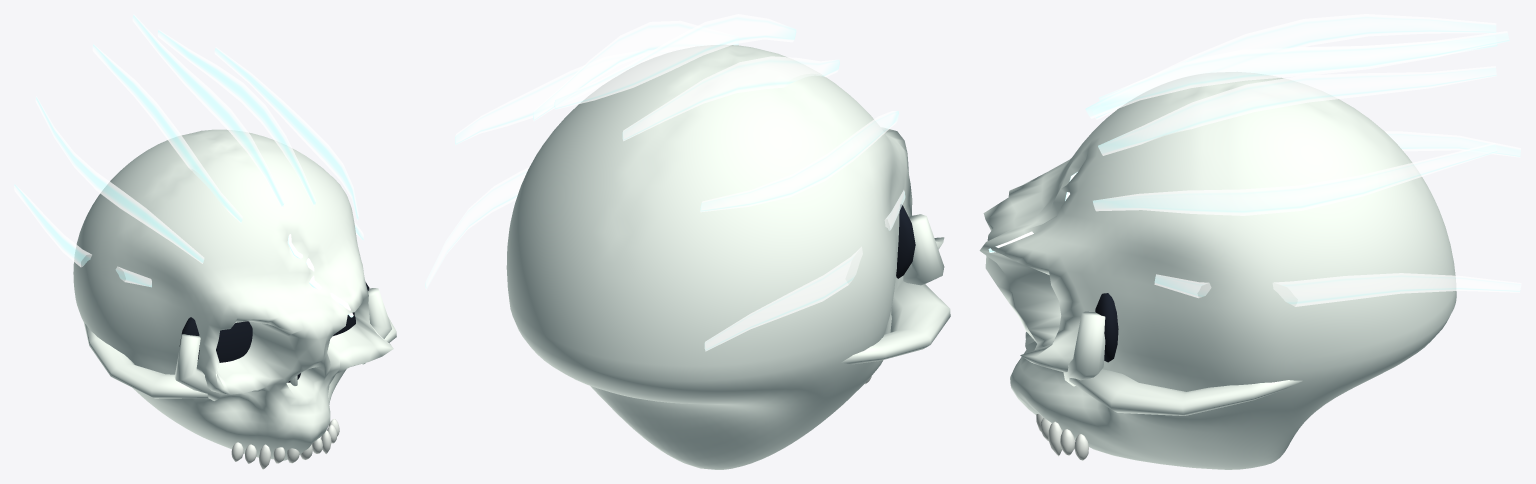
Rendered from ghost_skull.glb.
3 views of the same model, side by side, from view 1: azimuth 30°, elevation 25°; view 2: azimuth 150°, elevation 25°; view 3: azimuth 270°, elevation 25° (orthographic). The views are drawn at different scales.
Parts seen in each view (by area): view 1: CraniumSculpt, SpectralWisp_6, SpectralWisp_5, ZygomaticArch_L, SpectralWisp_4, SpectralWisp_0, SpectralWisp_1, SpectralWisp_2, OrbitShadow_L, ZygomaticOrbitalRim_L, ZygomaticOrbitalRim_R, CrownScarGlow; view 2: CraniumSculpt, SpectralWisp_6, SpectralWisp_4, SpectralWisp_5, SpectralWisp_1, SpectralWisp_0, ZygomaticArch_L, SpectralWisp_2, SpectralWisp_3, ZygomaticOrbitalRim_L, OrbitShadow_L; view 3: CraniumSculpt, SpectralWisp_6, SpectralWisp_5, SpectralWisp_4, SpectralWisp_1, SpectralWisp_3, ZygomaticArch_R, SpectralWisp_0, ZygomaticOrbitalRim_R, SpectralWisp_2, OrbitShadow_R.
Part boxes in pixels (x1=…): CraniumSculpt: x1=73, y1=129, x2=393, y2=460; SpectralWisp_6: x1=132, y1=14, x2=284, y2=207; SpectralWisp_5: x1=157, y1=29, x2=316, y2=205; ZygomaticArch_L: x1=83, y1=322, x2=208, y2=398; SpectralWisp_4: x1=92, y1=44, x2=242, y2=223; SpectralWisp_0: x1=35, y1=96, x2=204, y2=263; SpectralWisp_1: x1=214, y1=47, x2=358, y2=220; SpectralWisp_2: x1=14, y1=184, x2=151, y2=287; OrbitShadow_L: x1=179, y1=317, x2=252, y2=362; ZygomaticOrbitalRim_L: x1=174, y1=334, x2=222, y2=400; ZygomaticOrbitalRim_R: x1=362, y1=288, x2=391, y2=364; CrownScarGlow: x1=287, y1=234, x2=353, y2=317; CraniumSculpt: x1=506, y1=45, x2=944, y2=469; SpectralWisp_6: x1=554, y1=14, x2=796, y2=109; SpectralWisp_4: x1=622, y1=56, x2=839, y2=141; SpectralWisp_5: x1=533, y1=20, x2=738, y2=121; SpectralWisp_1: x1=455, y1=50, x2=671, y2=144; SpectralWisp_0: x1=700, y1=111, x2=898, y2=212; ZygomaticArch_L: x1=841, y1=281, x2=950, y2=364; SpectralWisp_2: x1=704, y1=190, x2=905, y2=351; SpectralWisp_3: x1=425, y1=167, x2=529, y2=289; ZygomaticOrbitalRim_L: x1=903, y1=214, x2=944, y2=285; OrbitShadow_L: x1=896, y1=204, x2=915, y2=278; CraniumSculpt: x1=979, y1=72, x2=1456, y2=469; SpectralWisp_6: x1=1085, y1=31, x2=1509, y2=118; SpectralWisp_5: x1=1098, y1=66, x2=1496, y2=155; SpectralWisp_4: x1=1099, y1=14, x2=1496, y2=107; SpectralWisp_1: x1=1093, y1=143, x2=1497, y2=215; SpectralWisp_3: x1=1154, y1=273, x2=1521, y2=306; ZygomaticArch_R: x1=1069, y1=369, x2=1302, y2=415; SpectralWisp_0: x1=1092, y1=36, x2=1497, y2=119; ZygomaticOrbitalRim_R: x1=1063, y1=311, x2=1105, y2=386; SpectralWisp_2: x1=1385, y1=131, x2=1520, y2=157; OrbitShadow_R: x1=1095, y1=293, x2=1118, y2=362.
Bounding box in the file's own units: 0.1336 × 0.159 × 0.178.
